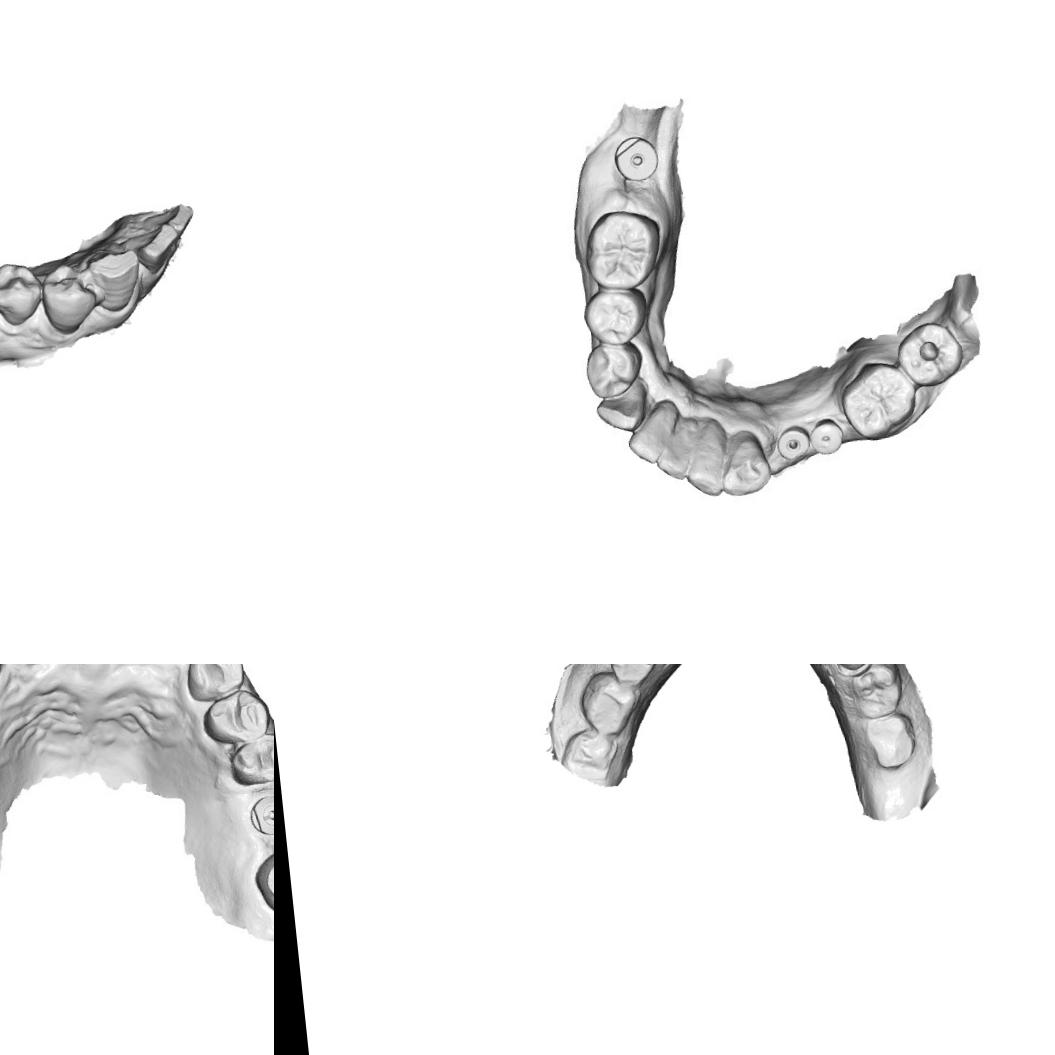canine: (85, 245, 146, 316), (718, 436, 770, 501), (592, 385, 653, 436), (178, 664, 249, 706)
implant: (611, 132, 659, 186), (775, 422, 815, 464), (809, 417, 847, 458)
implant_minus: (247, 788, 274, 838)
incisor: (620, 406, 678, 470), (683, 428, 734, 500), (650, 414, 699, 484), (122, 220, 184, 275), (139, 201, 198, 238)
molar: (578, 204, 666, 294), (836, 356, 921, 445), (892, 318, 966, 390), (575, 666, 644, 739), (556, 724, 622, 786), (847, 664, 908, 720), (862, 711, 918, 772), (250, 831, 274, 923)
premolar: (34, 260, 102, 337), (580, 338, 648, 402), (200, 685, 272, 745), (581, 285, 649, 348), (0, 256, 47, 328), (224, 729, 274, 788), (600, 664, 653, 689)
